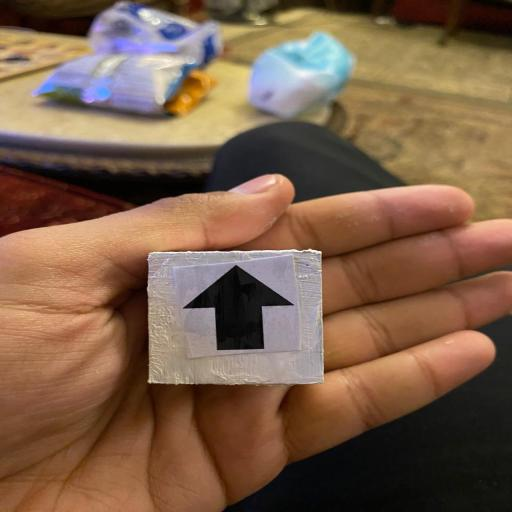Up: (146, 247, 327, 387)
